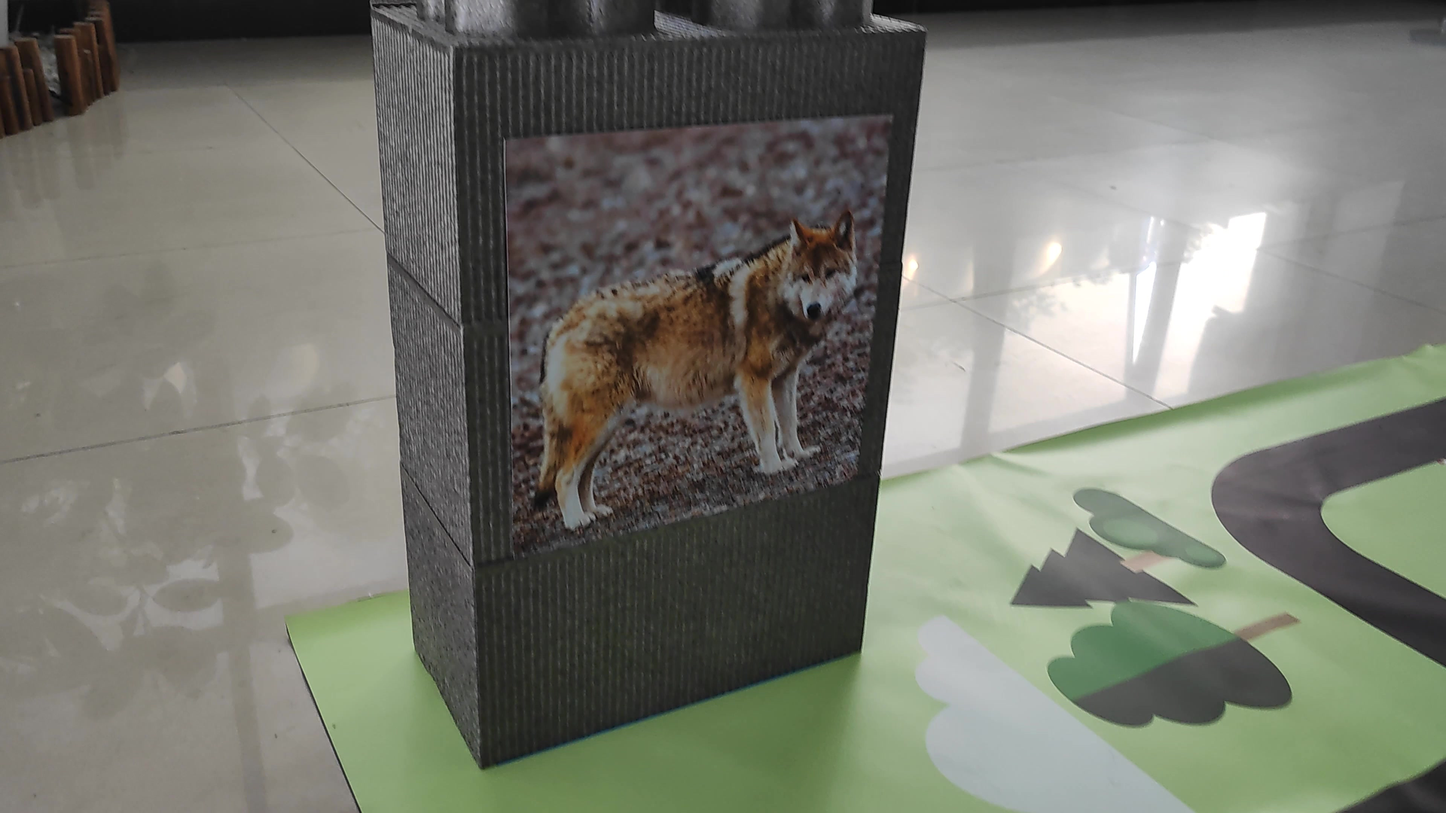wolf: (504, 201, 871, 525)
